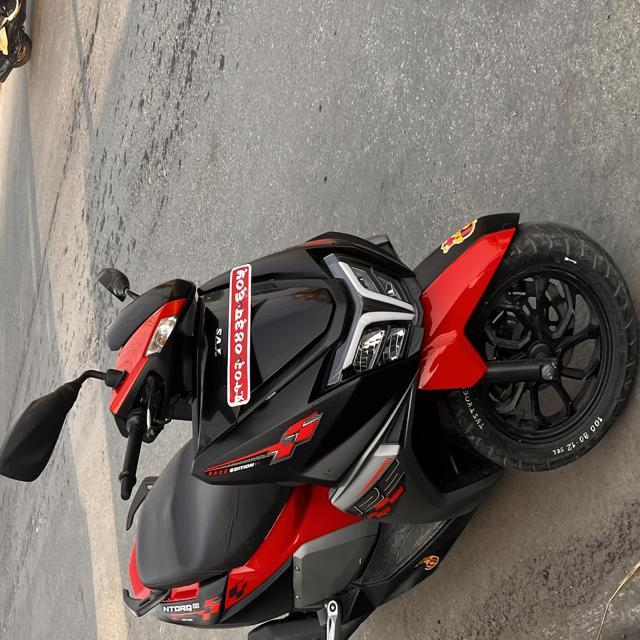license_plate: (224, 249, 275, 437)
